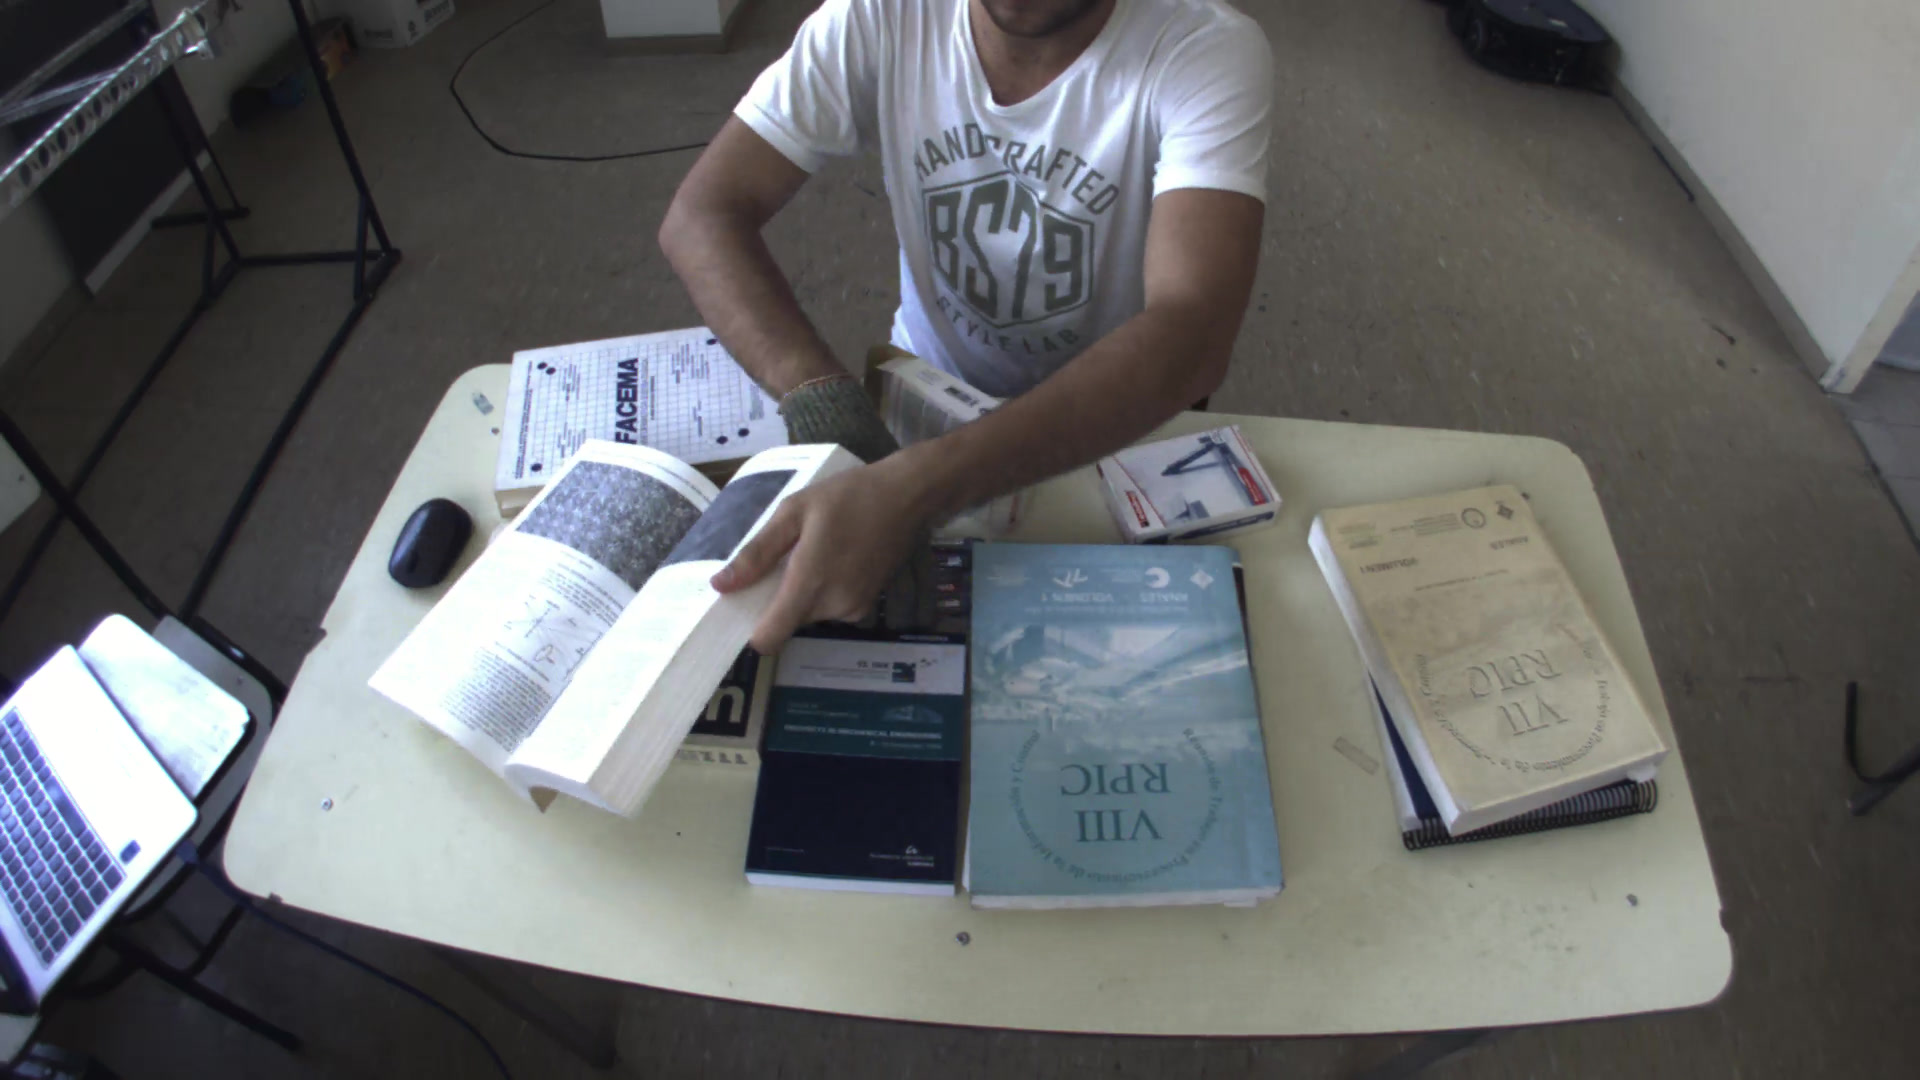hand: (704, 458, 910, 665)
